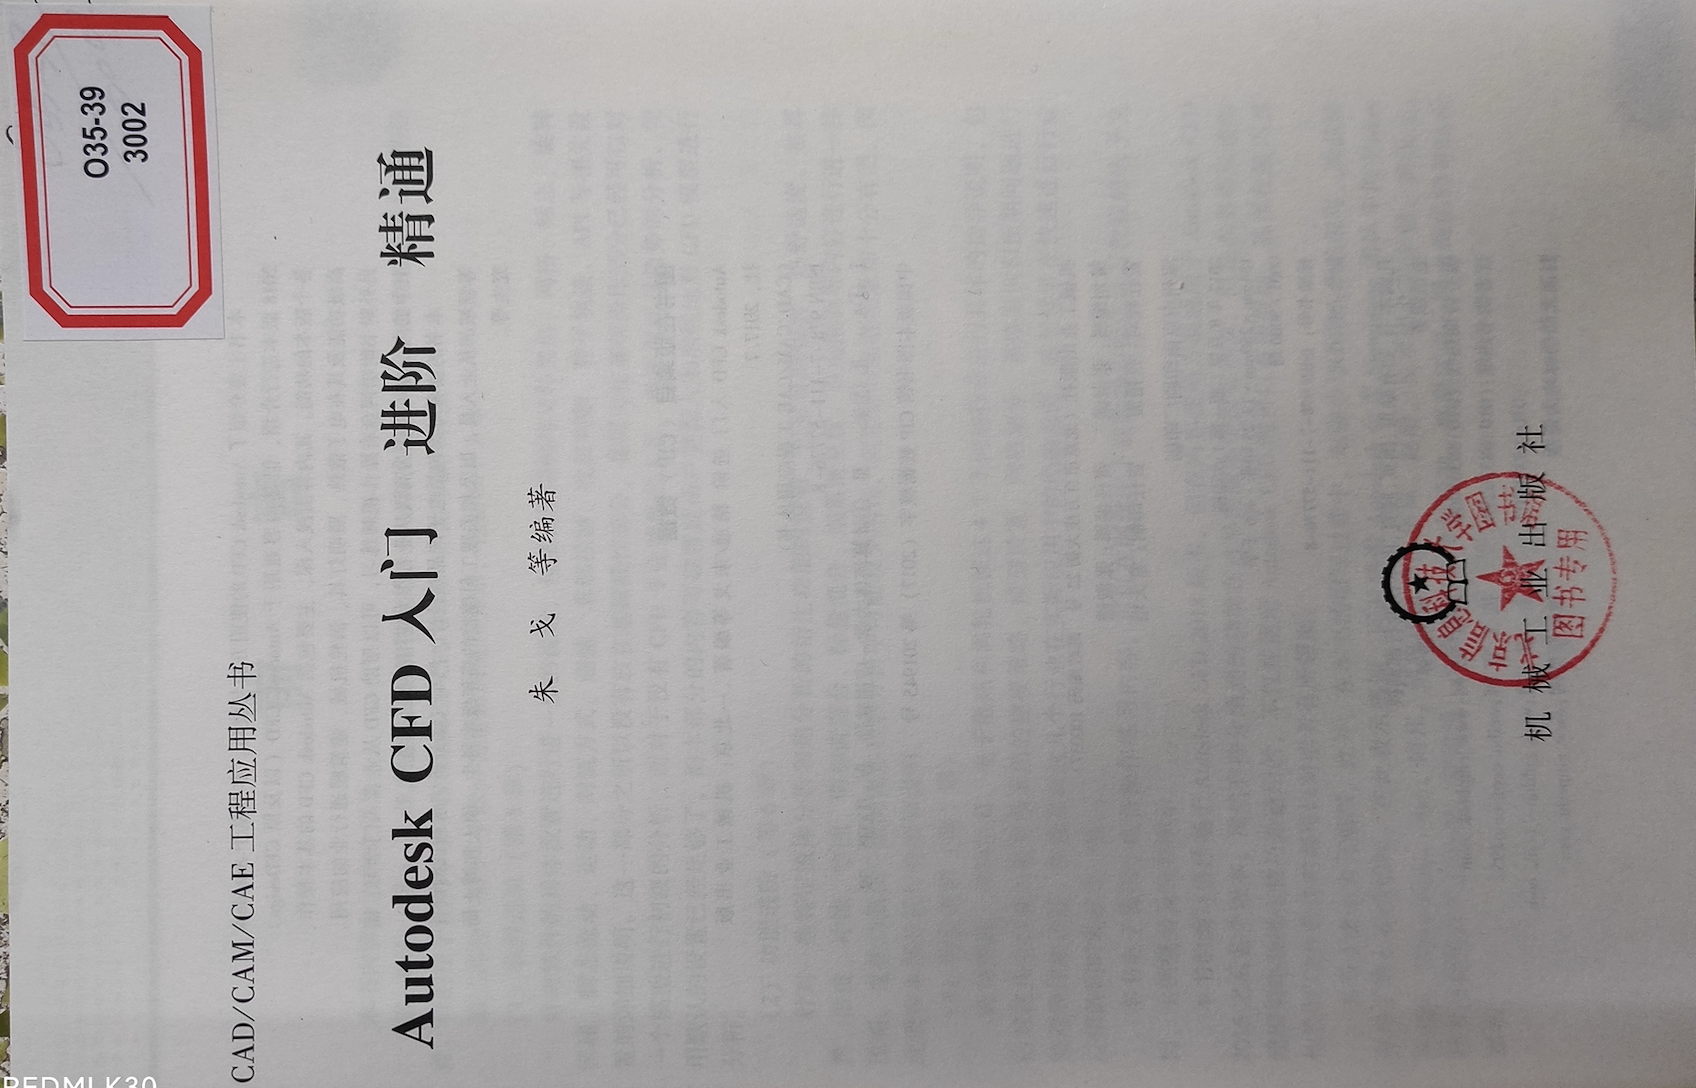Text_area: (307, 90, 558, 1060), (1391, 403, 1630, 778), (11, 14, 231, 359)
